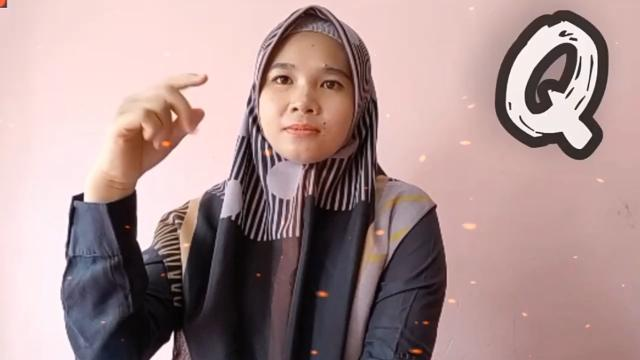Q: (103, 66, 215, 180)
